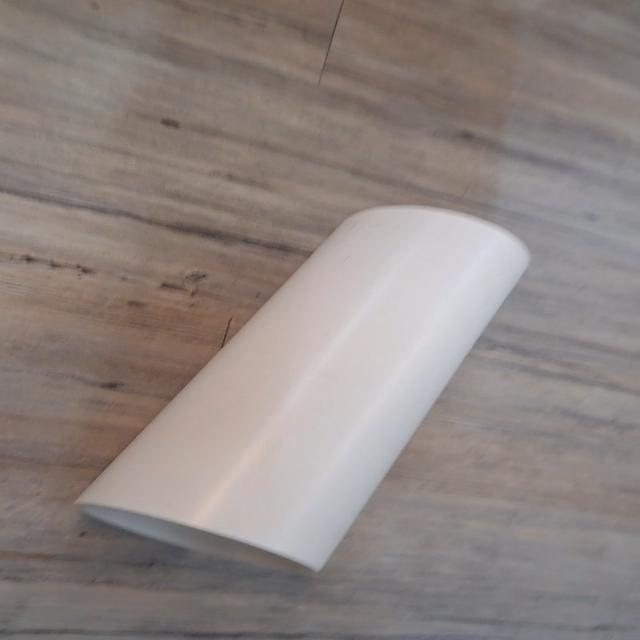CORAL: (45, 172, 639, 584)
